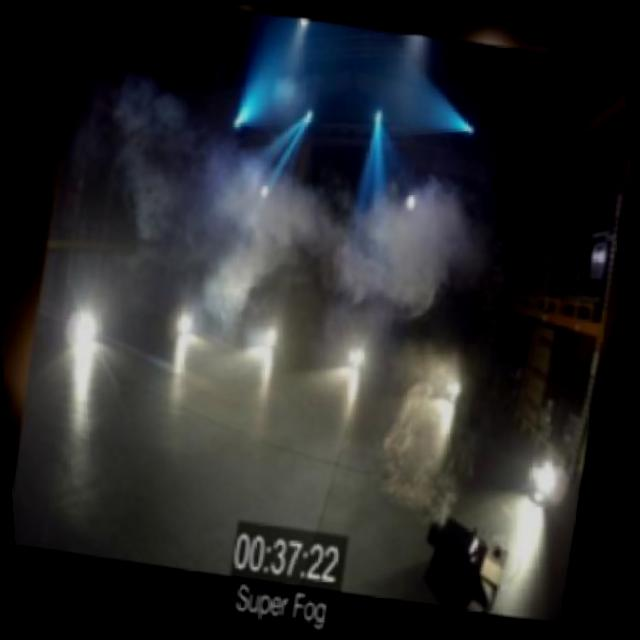smoke: (176, 125, 471, 326)
